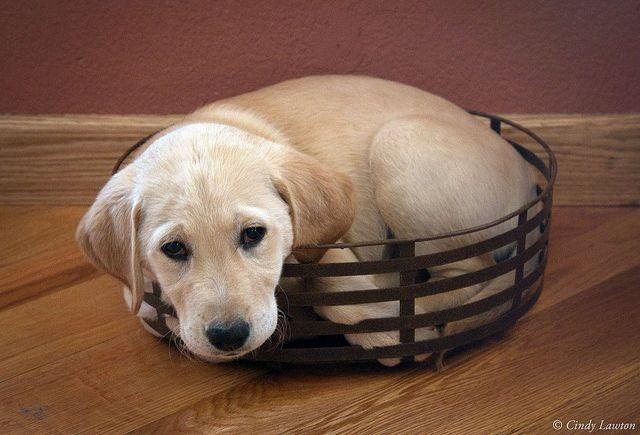puppy-dog: (68, 71, 545, 374)
